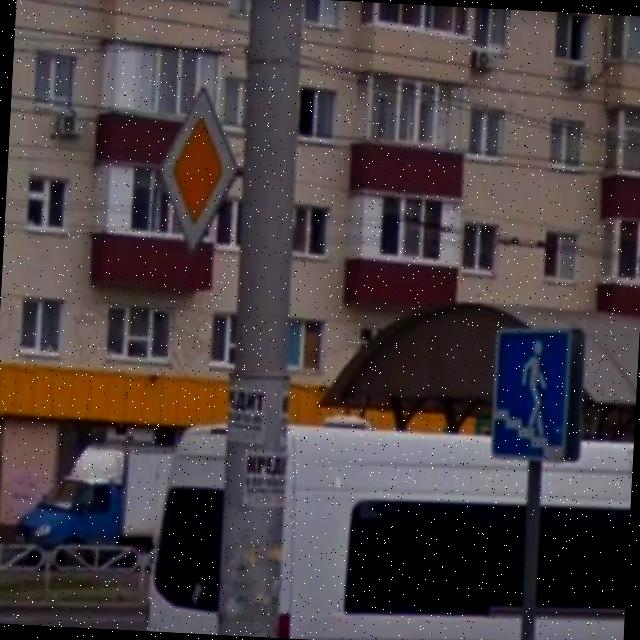Droga z pierwszenstwem: (156, 82, 242, 258)
